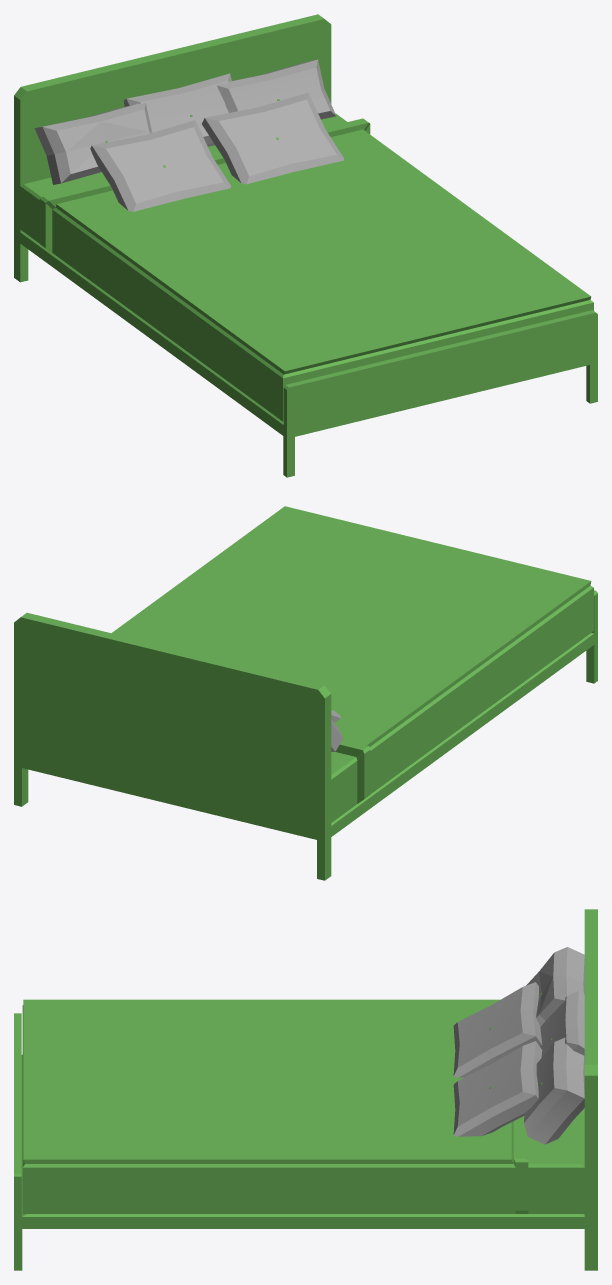
File: bed.fbx
3 views of the same model, one above another, from view 1: azimuth 30°, elevation 25°; view 2: azimuth 150°, elevation 25°; view 3: azimuth 270°, elevation 25° (orthographic). The views are drawn at different scales.
Visible parts, largest first — view 1: Bed, Pillow1, Pillow, Pillow2, Pillow3, Pillow4; view 2: Bed; view 3: Bed, Pillow1, Pillow, Pillow3, Pillow2, Pillow4.
Part boxes in pixels (bbox=[...]): Bed: bbox=[14, 14, 597, 477]; Pillow1: bbox=[202, 92, 343, 184]; Pillow: bbox=[90, 120, 230, 211]; Pillow2: bbox=[34, 103, 152, 184]; Pillow3: bbox=[217, 59, 336, 119]; Pillow4: bbox=[124, 73, 231, 146]; Bed: bbox=[14, 506, 597, 880]; Bed: bbox=[14, 909, 597, 1270]; Pillow1: bbox=[453, 1041, 542, 1136]; Pillow: bbox=[453, 982, 542, 1077]; Pillow3: bbox=[524, 1037, 584, 1144]; Pillow2: bbox=[526, 947, 584, 1026]; Pillow4: bbox=[540, 991, 584, 1057].
Size of the model in its own units: 310 by 173 by 452.
